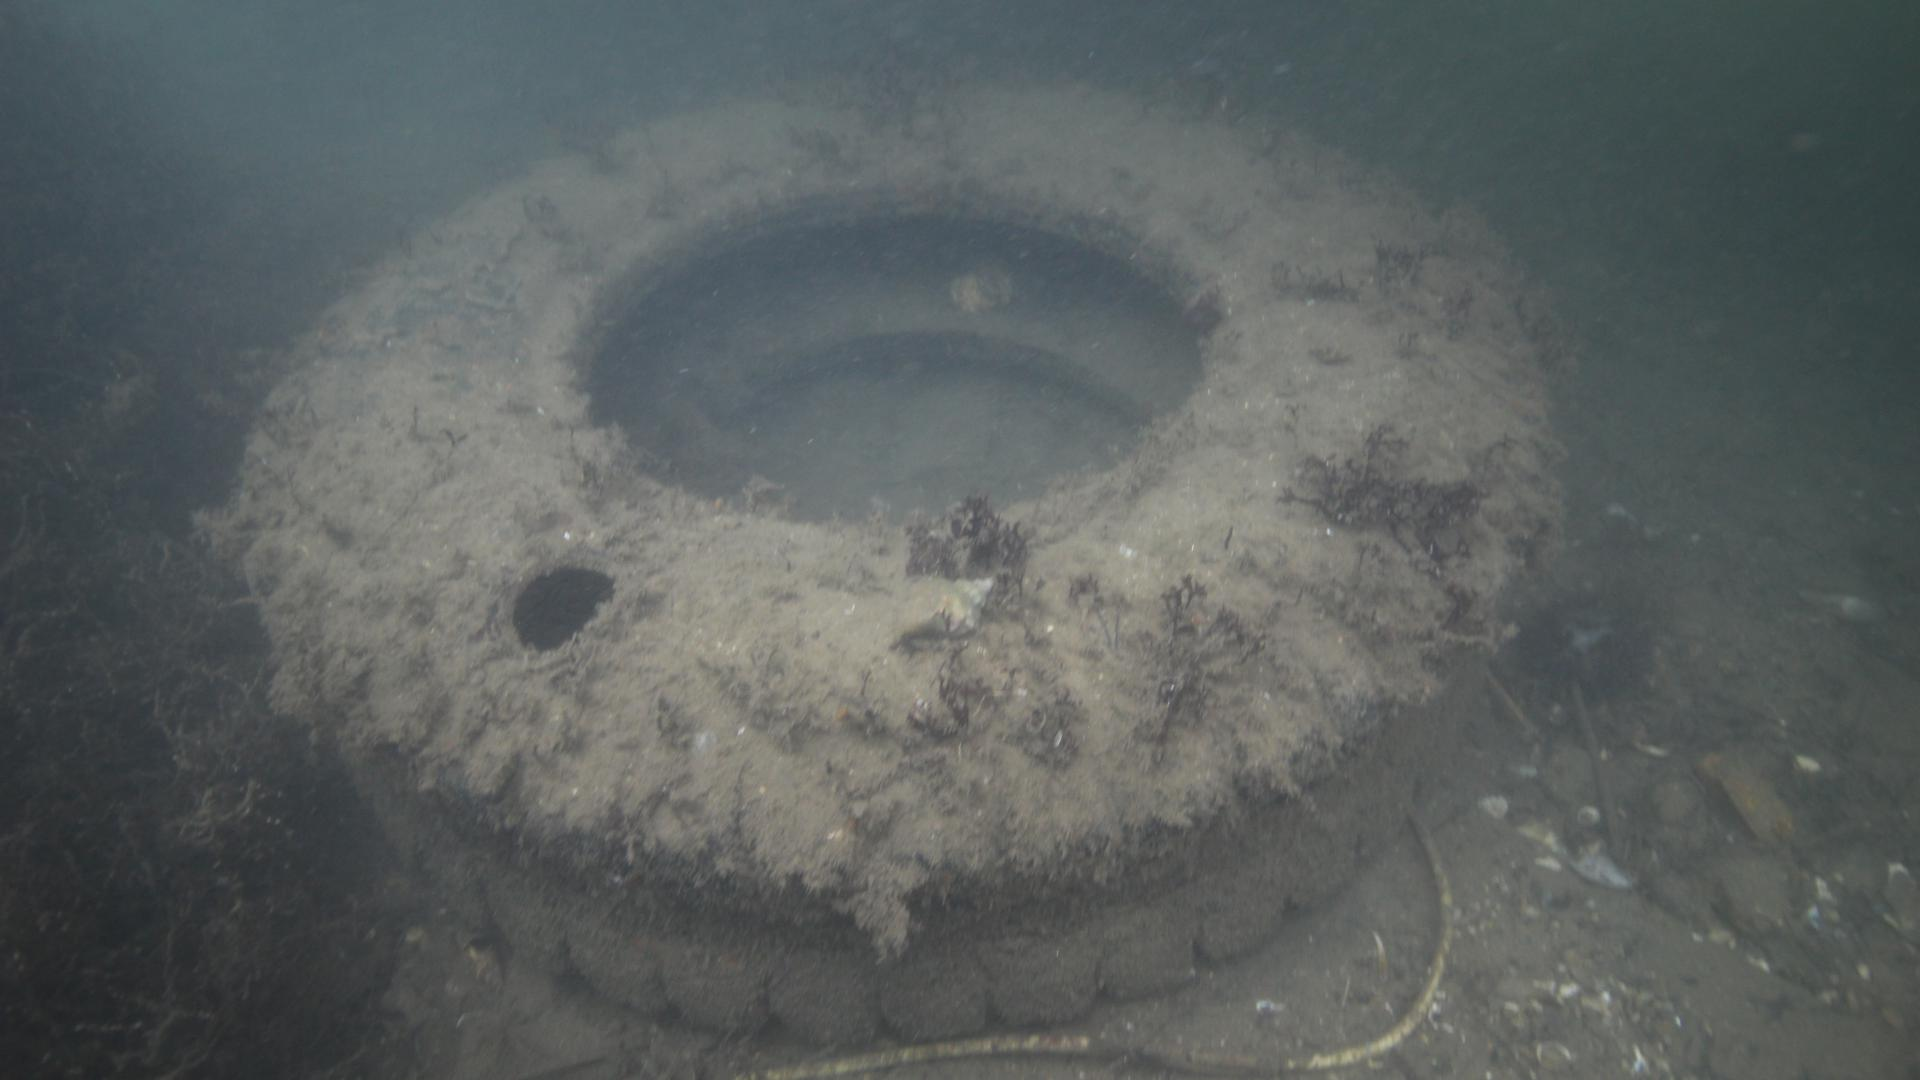tire: (232, 79, 1556, 1048)
